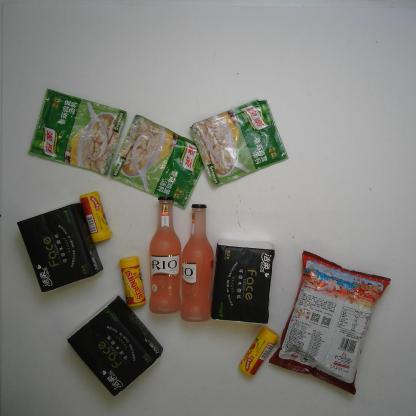Alcohol: (180, 204, 215, 326), (148, 196, 183, 310)
Candy: (237, 325, 281, 378), (81, 190, 113, 244), (117, 257, 147, 309)
Puffed Food: (265, 248, 392, 399)
Seasoner: (110, 112, 204, 210), (188, 99, 290, 188), (28, 86, 126, 178)
Tissue: (66, 292, 164, 399), (14, 200, 104, 295), (209, 238, 277, 324)
